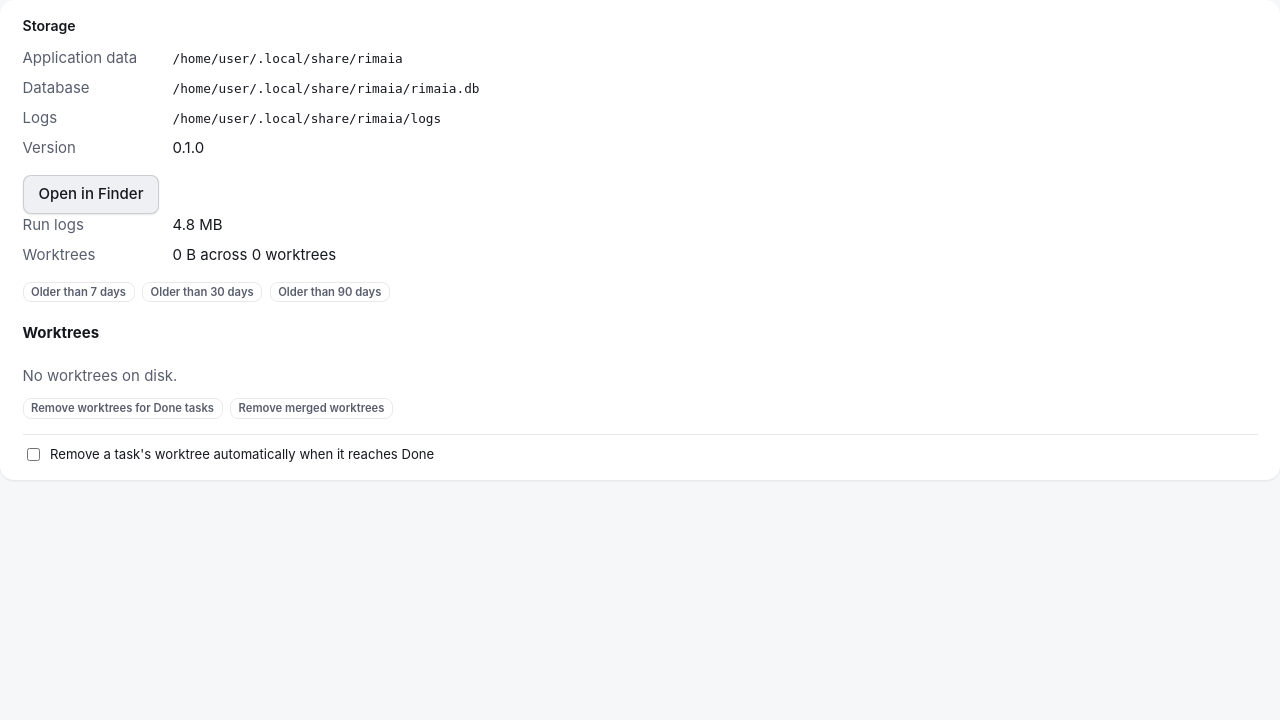
Test: StorageSection › prunes logs older than the chosen preset and refreshes the reported size
Expected: the text "4.8 MB" is shown, left=172, top=215, right=222, bottom=234
Click the button "Older than 30 days": click(202, 292) left=142, top=282, right=262, bottom=302
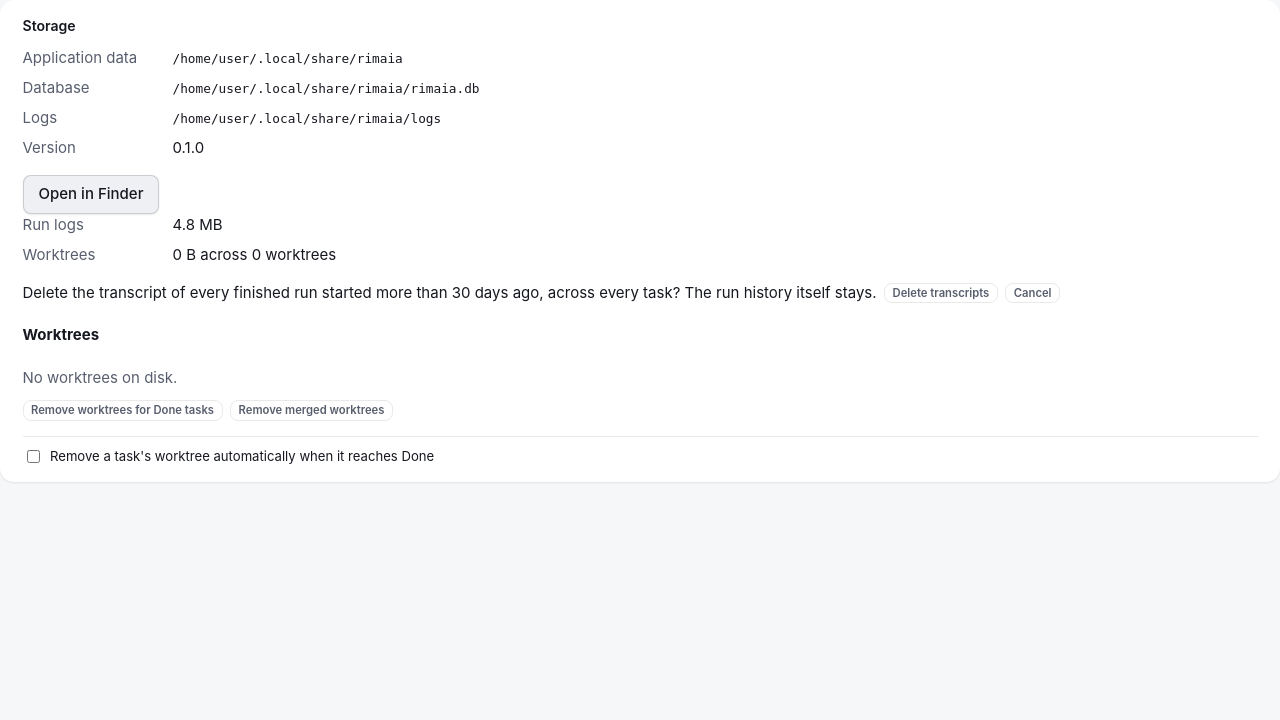
Click the button "Delete transcripts": click(941, 293) left=884, top=283, right=998, bottom=303
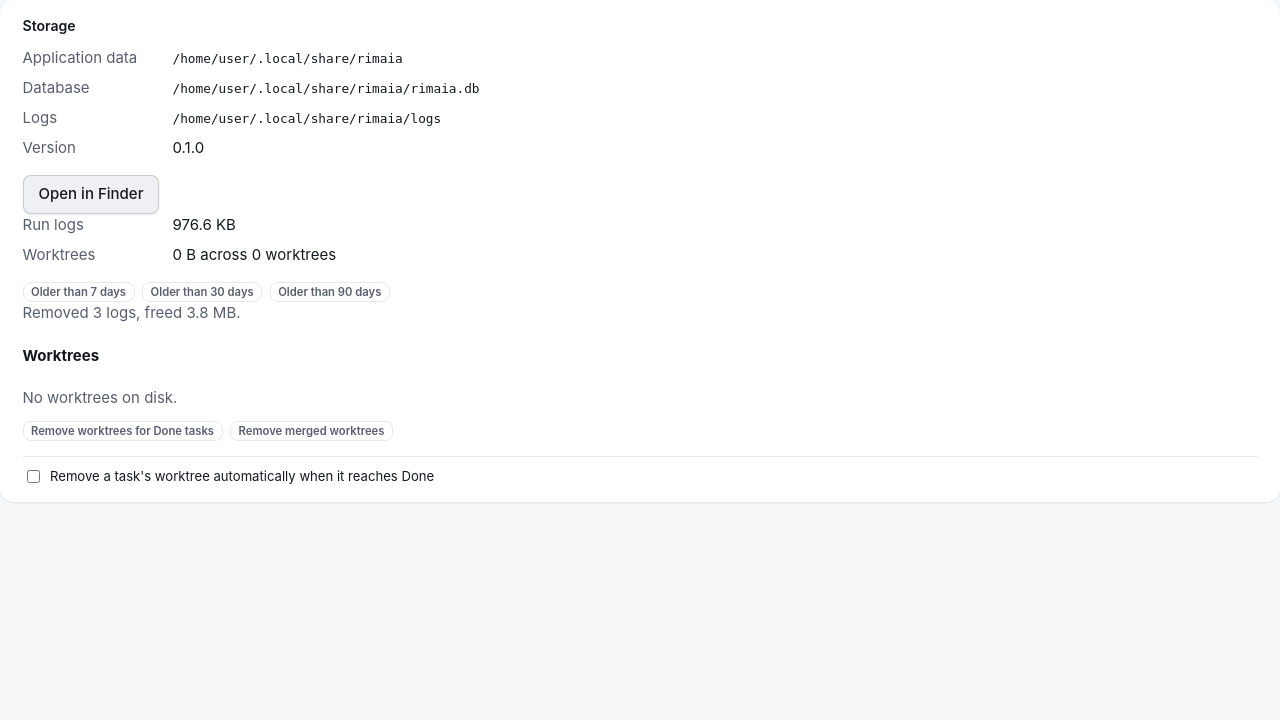
Expected: the text "Removed 3 logs, freed 3.8 MB." is shown, left=22, top=303, right=240, bottom=322
Expected: the text "976.6 KB" is shown, left=172, top=215, right=236, bottom=234
